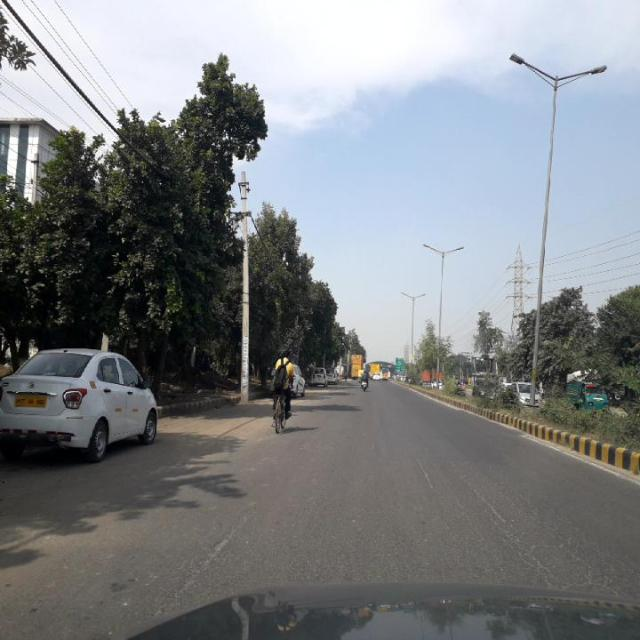D00: (165, 498, 268, 602), (407, 426, 498, 506)
D20: (497, 514, 613, 586)
